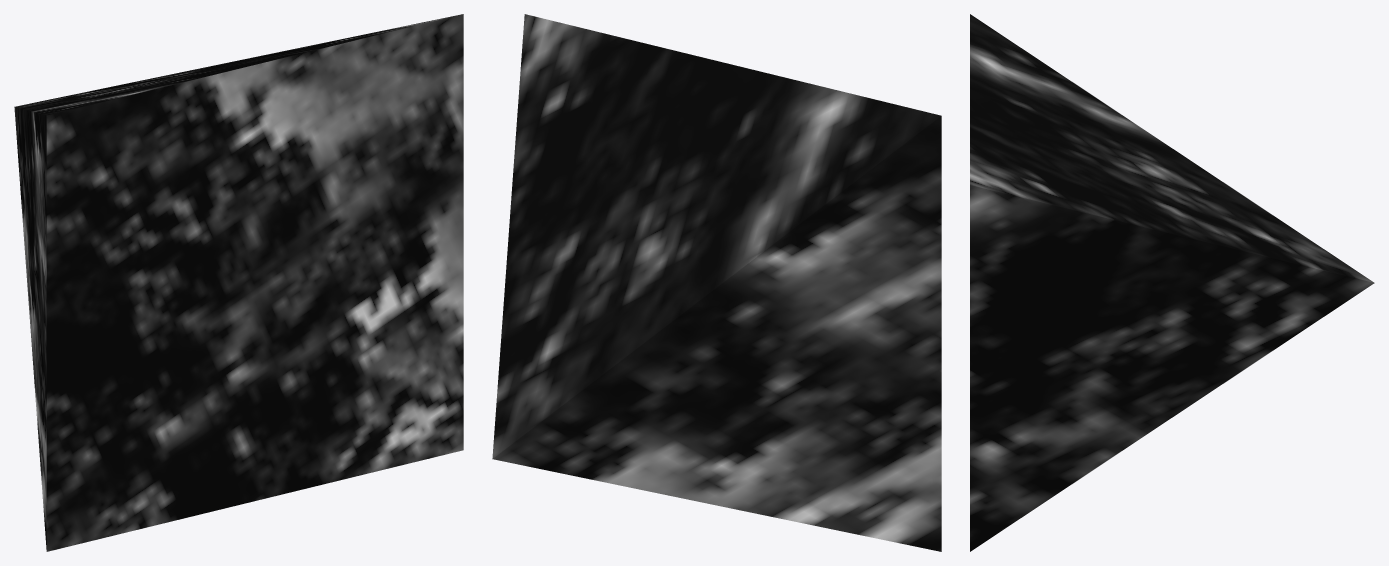
File: MEP_Crystal_06.fbx
3 views of the same model, side by side, from view 1: azimuth 30°, elevation 25°; view 2: azimuth 150°, elevation 25°; view 3: azimuth 270°, elevation 25° (orthographic). The views are drawn at different scales.
Parts seen in each view (by area): view 1: MEP_Crystal_06; view 2: MEP_Crystal_06; view 3: MEP_Crystal_06.
Boxes of the visible parts, x1,y1,x2,y2 form: MEP_Crystal_06: [14, 14, 463, 551]; MEP_Crystal_06: [492, 14, 941, 551]; MEP_Crystal_06: [970, 14, 1374, 551].
Bounding box in the file's own units: 0.7134 × 0.7134 × 0.7134.
1 material, 1 textured.
